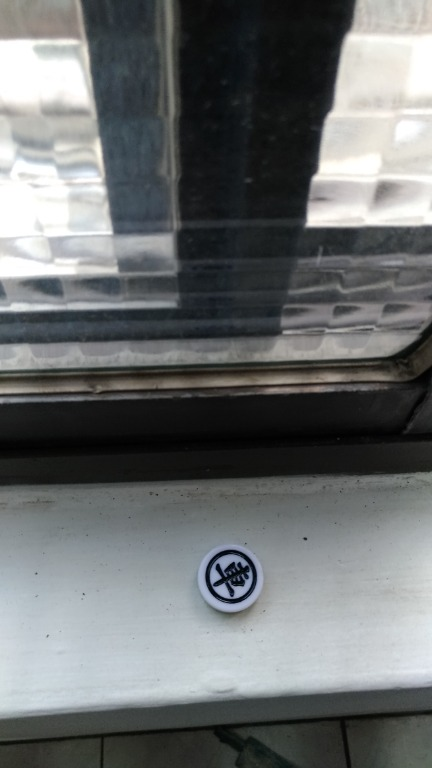b-king: (193, 538, 278, 618)
